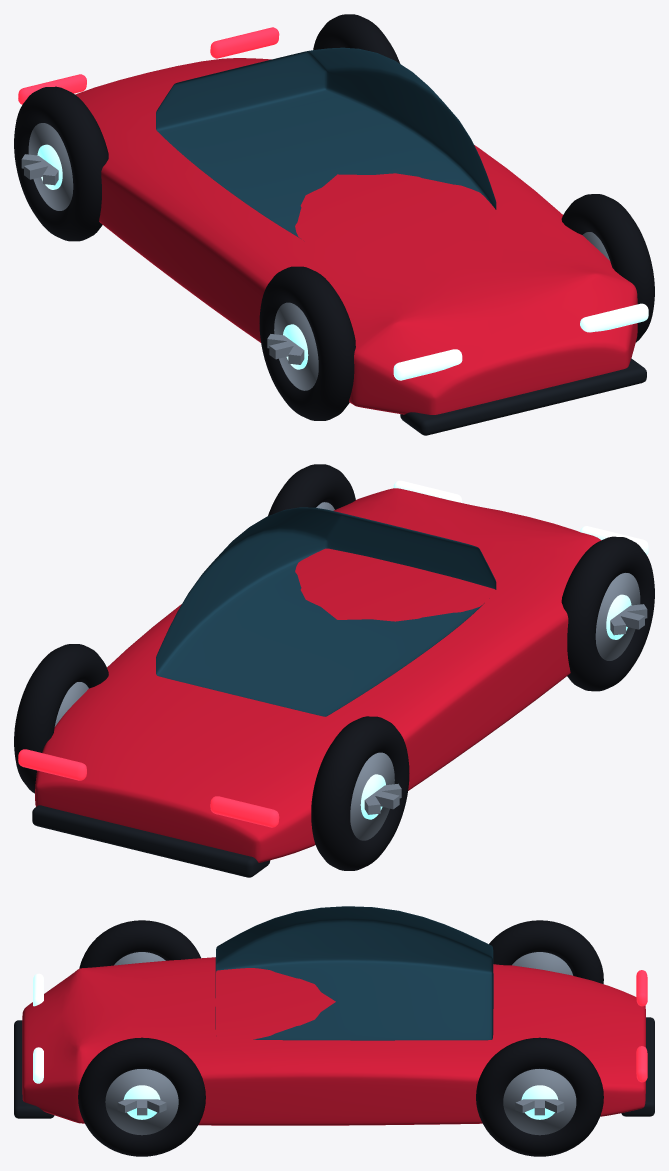
The model's file is rainline_apex_s_v2.glb.
3 renders of one model, top to bottom at view 1: azimuth 30°, elevation 25°; view 2: azimuth 150°, elevation 25°; view 3: azimuth 270°, elevation 25°, orthographic. The views are drawn at different scales.
Visible parts, largest first — view 1: Apex sculpted body, Apex glass canopy, Apex performance tire, Apex performance tire.001, Apex performance tire.002, Apex front splitter, Apex performance tire.003, Apex alloy wheel, Apex alloy wheel.001, Apex head lamp, Apex tail lamp.001, Apex head lamp.001 (+1 smaller); view 2: Apex sculpted body, Apex glass canopy, Apex performance tire.001, Apex performance tire, Apex performance tire.003, Apex rear diffuser, Apex performance tire.002, Apex alloy wheel.001, Apex alloy wheel, Apex tail lamp, Apex tail lamp.001; view 3: Apex sculpted body, Apex glass canopy, Apex performance tire.002, Apex performance tire.003, Apex performance tire.001, Apex performance tire, Apex alloy wheel.003, Apex alloy wheel.002, Apex front splitter, Apex rear diffuser, Apex alloy wheel.001, Apex brake disc.002 (+5 smaller).
Part boxes in pixels (x1,y1,x2,y2): Apex sculpted body: (75,58,637,414); Apex glass canopy: (156,47,496,238); Apex performance tire: (259,266,355,420); Apex performance tire.001: (14,86,108,241); Apex performance tire.002: (561,194,654,342); Apex front splitter: (400,358,646,435); Apex performance tire.003: (313,14,400,63); Apex alloy wheel: (274,302,318,390); Apex alloy wheel.001: (28,123,73,210); Apex head lamp: (393,349,462,380); Apex tail lamp.001: (210,27,279,58); Apex head lamp.001: (580,303,648,332); Apex sculpted body: (35,488,601,862); Apex glass canopy: (156,507,496,716); Apex performance tire.001: (311,716,409,870); Apex performance tire: (561,536,654,691); Apex performance tire.003: (14,644,108,793); Apex rear diffuser: (32,805,270,877); Apex performance tire.002: (268,464,355,515); Apex alloy wheel.001: (350,752,394,840); Apex alloy wheel: (595,573,640,660); Apex tail lamp: (210,796,279,827); Apex tail lamp.001: (18,749,86,780); Apex sculpted body: (22,957,645,1125); Apex glass canopy: (215,906,493,1040); Apex performance tire.002: (78,1037,205,1156); Apex performance tire.003: (476,1037,603,1156); Apex performance tire.001: (489,920,603,983); Apex performance tire: (79,920,200,968); Apex alloy wheel.003: (503,1069,576,1135); Apex alloy wheel.002: (105,1069,178,1135); Apex front splitter: (14,1020,54,1118); Apex rear diffuser: (621,1017,654,1116); Apex alloy wheel.001: (512,952,572,975); Apex brake disc.002: (123,1085,160,1119).
Bounding box in the file's own units: 2.54 × 1.29 × 4.71.
